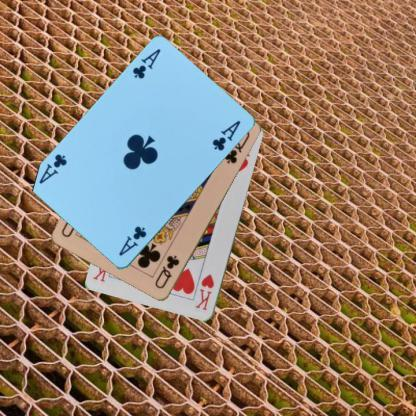Ac: (129, 47, 162, 80), (116, 224, 148, 258)
Kh: (192, 272, 216, 312)
Qc: (152, 253, 181, 291)
